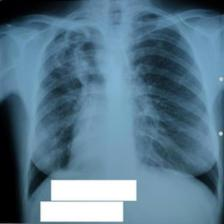tuberculosis: (22, 7, 221, 215), (23, 10, 178, 224)
